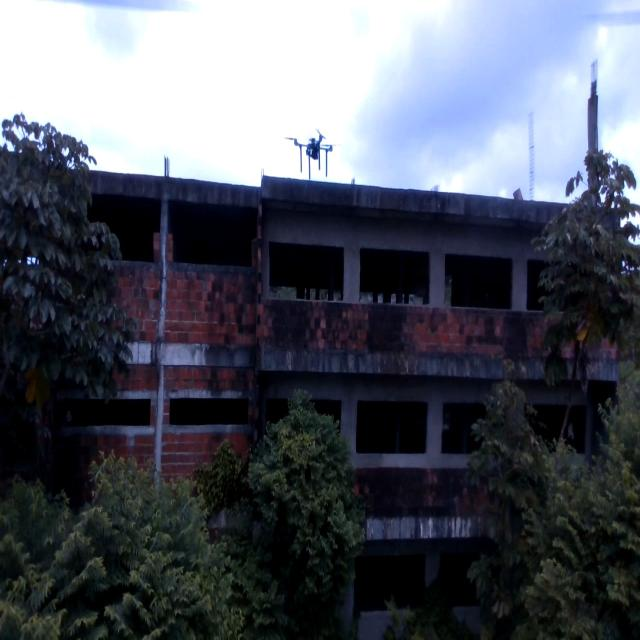-uav-: (278, 120, 346, 182)
